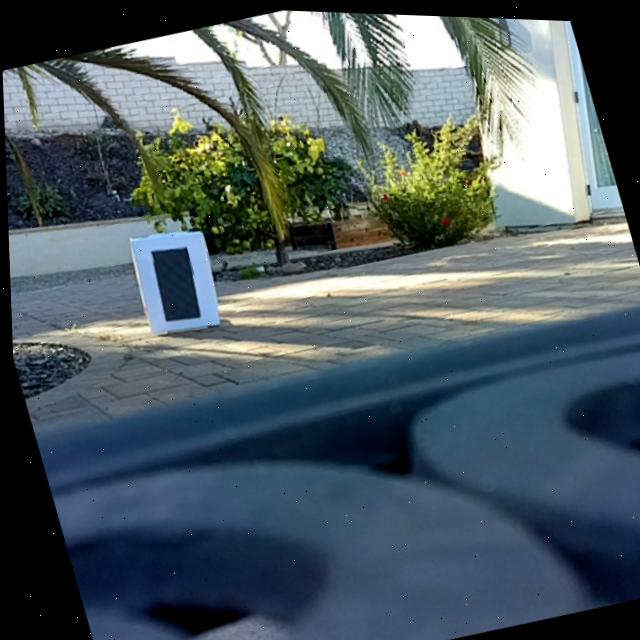led: (144, 238, 203, 326)
